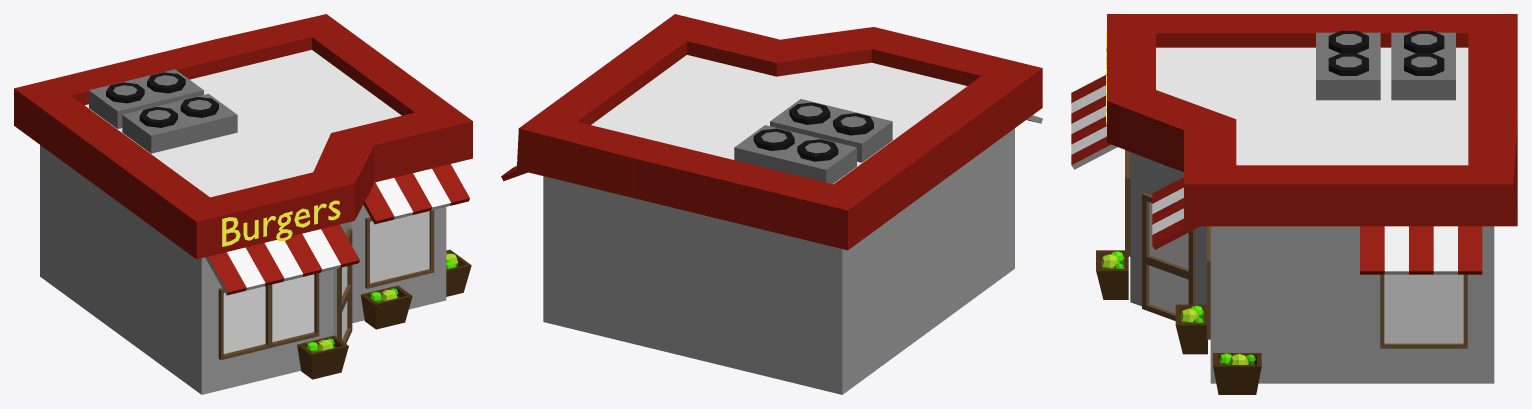
The model's file is Бургерная.fbx.
3 renders of one model, left to right at view 1: azimuth 30°, elevation 25°; view 2: azimuth 150°, elevation 25°; view 3: azimuth 270°, elevation 25°, orthographic. The views are drawn at different scales.
Parts seen in each view (by area): view 1: Здание, Дверь; view 2: Здание; view 3: Здание, Дверь.
Boxes of the visible parts, bbox=[...] form: Здание: bbox=[14, 14, 472, 394]; Дверь: bbox=[337, 228, 352, 343]; Здание: bbox=[501, 14, 1042, 394]; Здание: bbox=[1071, 14, 1517, 394]; Дверь: bbox=[1142, 193, 1195, 320].
Size of the model in its own units: 4.16 by 2.28 by 4.19.
